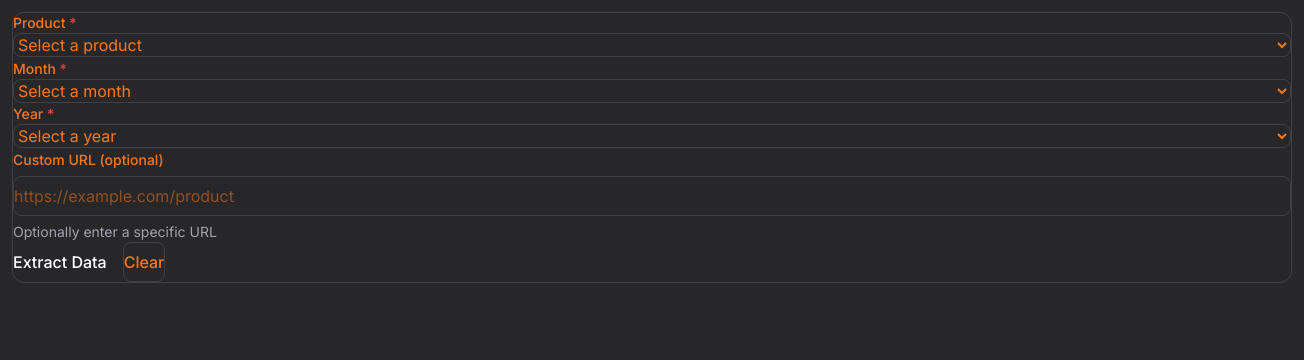
Test: ScrapingForm › Validation › should show error when product is not selected
Click the button "Extract Data" at (60, 262), box [13,242,107,282]
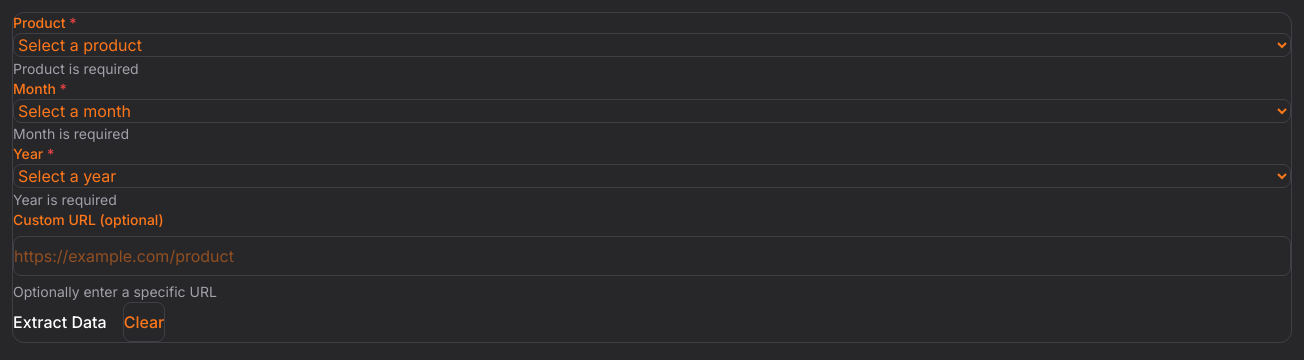
Expected: the text "Product is required" is shown, [13,60,139,77]
